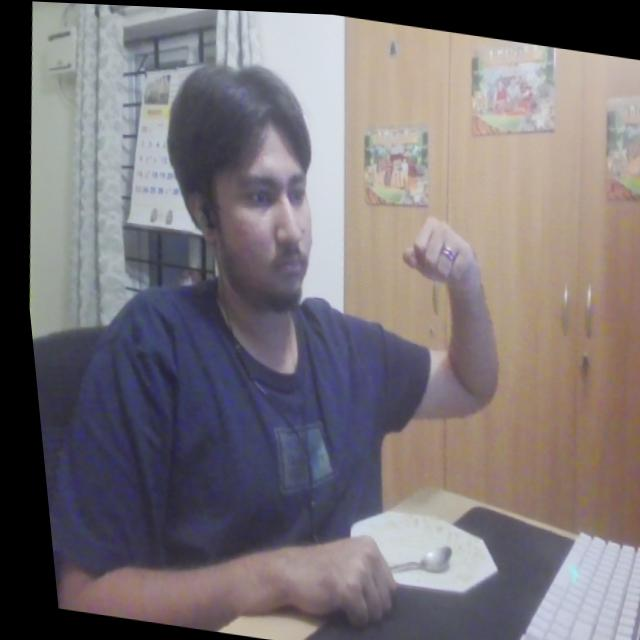yes: (384, 196, 490, 294)
